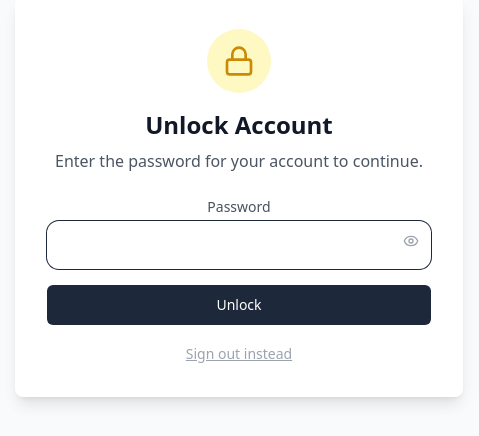
EncryptionGate › shows a generic failure message for non-decryption errors (e.g. missing user data)
Expected: the heading "Unlock Account" is shown, x1=145 y1=109 x2=333 y2=141
Type "whatever" into the password field labelled "Password". click: coordinates (239, 245)
box: x1=47 y1=221 x2=431 y2=269
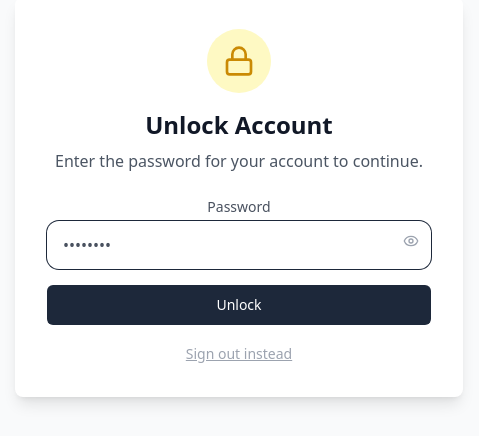
Click the button "Unlock". click: coordinates (239, 305)
box: x1=47 y1=285 x2=431 y2=325
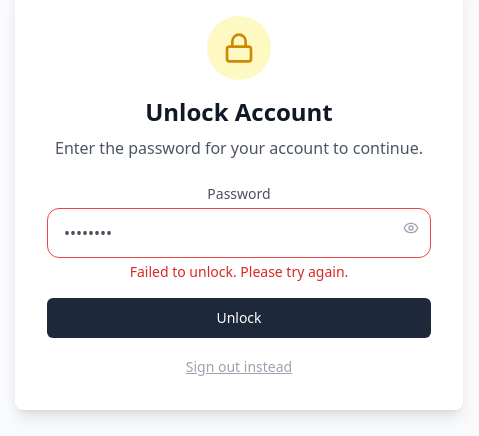
Result: the text "Failed to unlock. Please try again." is shown at x1=130 y1=262 x2=348 y2=281
